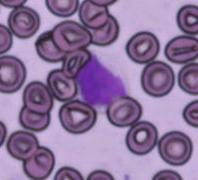M: (74, 51, 129, 111)
